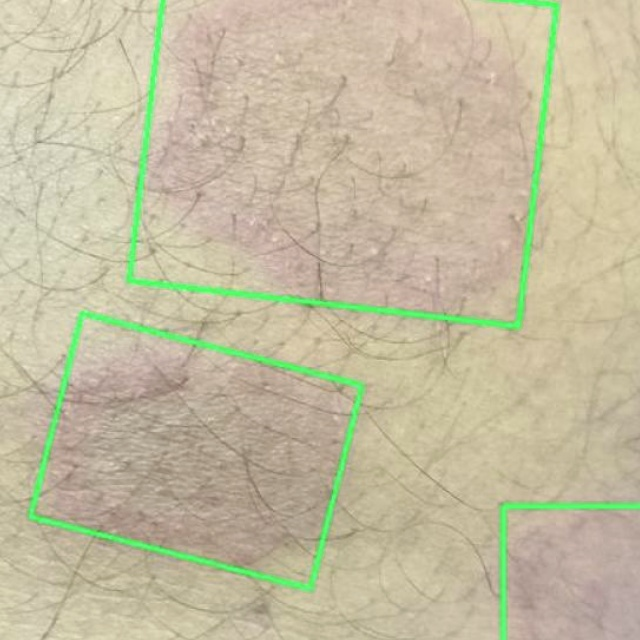Eczema: (128, 0, 556, 327), (29, 313, 361, 589), (503, 506, 639, 639)
